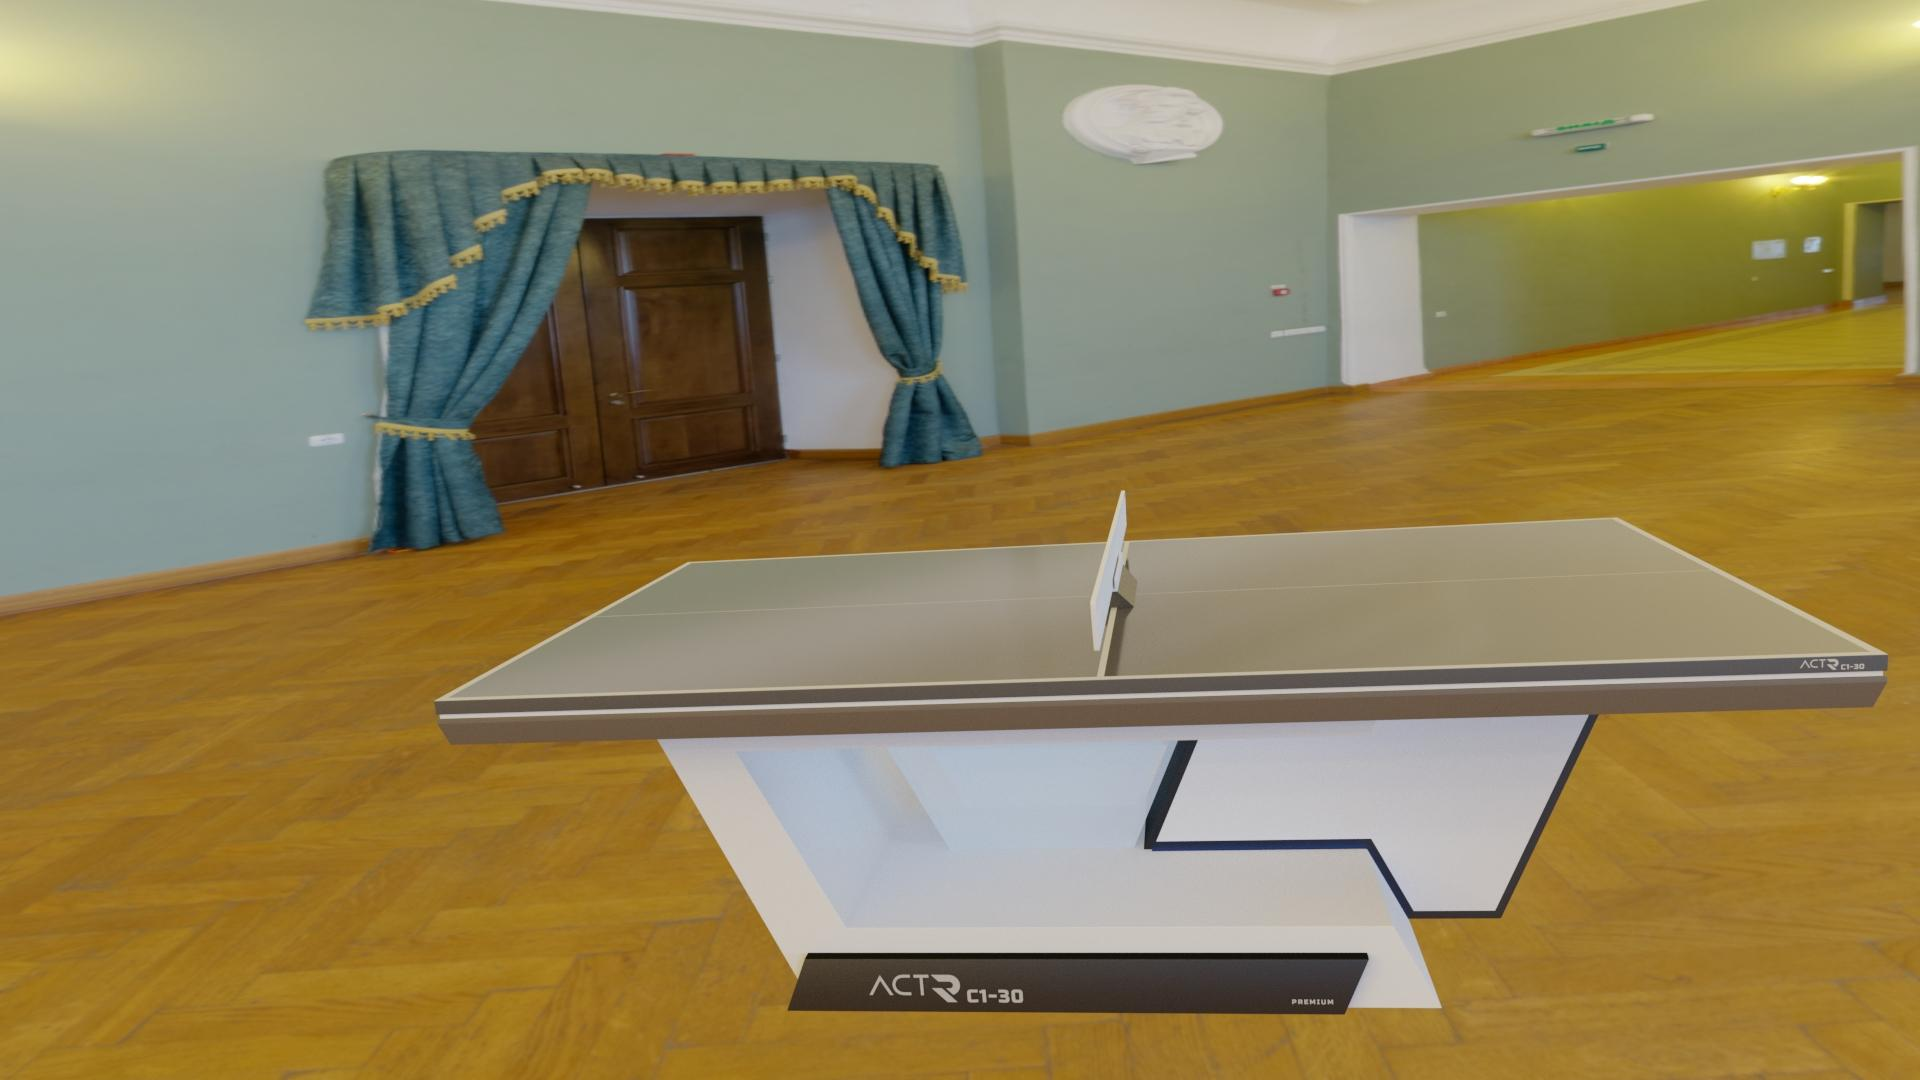table: (447, 518, 1870, 698)
